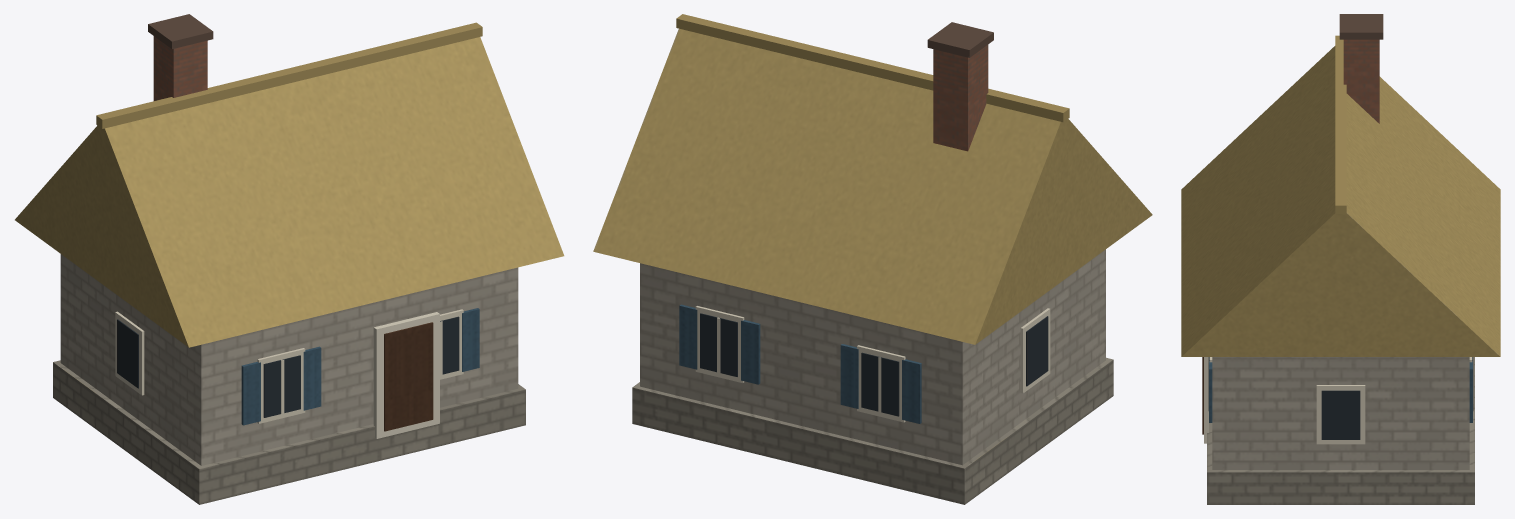
The model's file is cottage.glb.
3 views of the same model, side by side, from view 1: azimuth 30°, elevation 25°; view 2: azimuth 150°, elevation 25°; view 3: azimuth 270°, elevation 25° (orthographic). The views are drawn at different scales.
Parts seen in each view (by area): view 1: cottage; view 2: cottage; view 3: cottage.
Boxes of the visible parts, left/top/right/bottom form: cottage: left=15, top=14, right=564, bottom=504; cottage: left=593, top=14, right=1152, bottom=504; cottage: left=1181, top=14, right=1500, bottom=504.
Size of the model in its own units: 7.8 by 7.82 by 6.2.
1 material, 1 textured.
